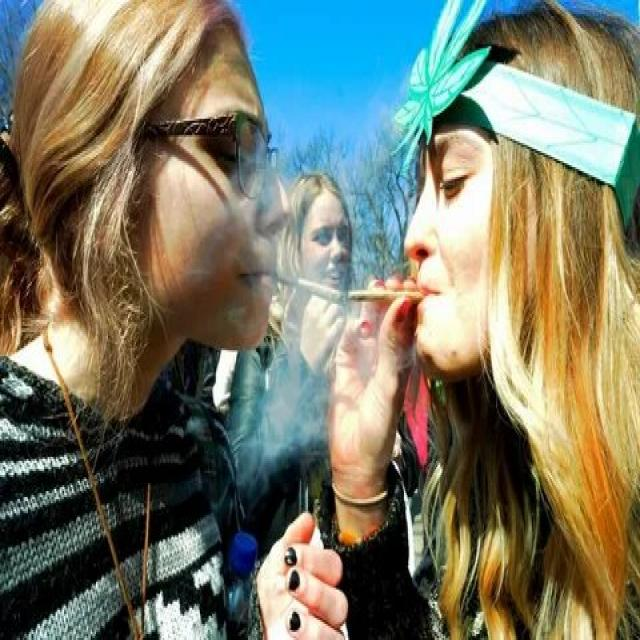smoke: (264, 262, 347, 316), (348, 280, 431, 308)
